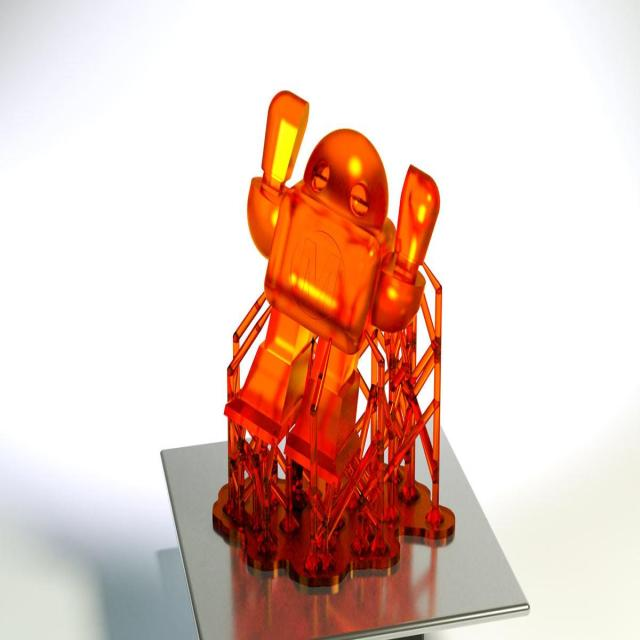Without deffect: (199, 84, 466, 597)
